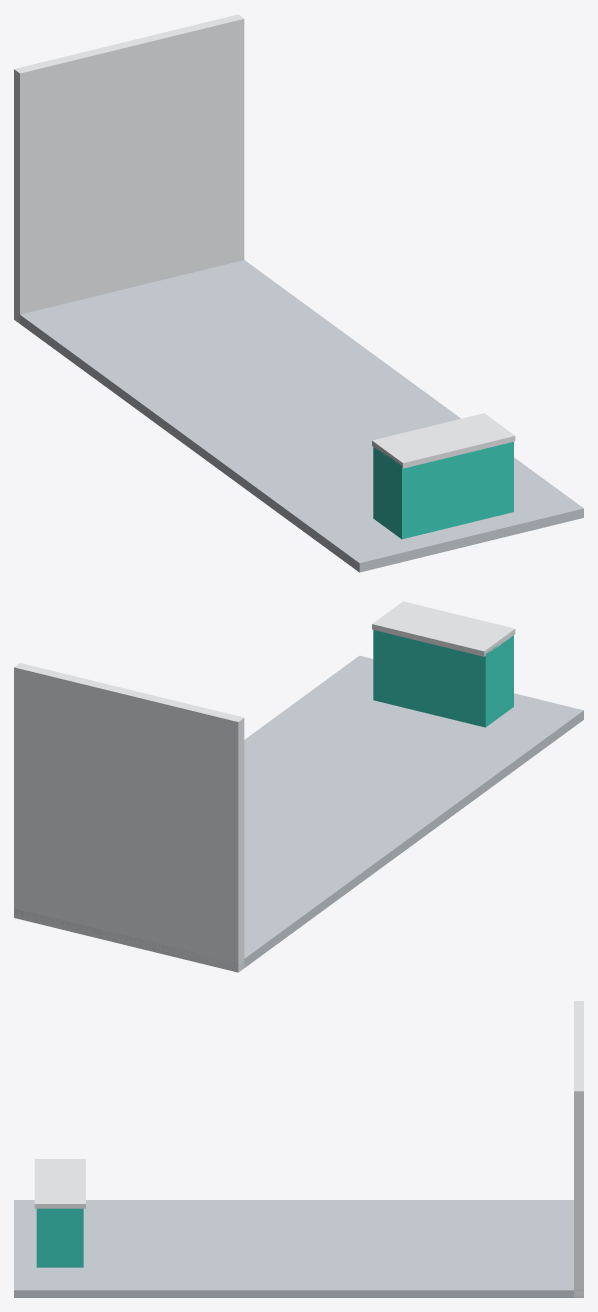
3 renders of one model, top to bottom at view 1: azimuth 30°, elevation 25°; view 2: azimuth 150°, elevation 25°; view 3: azimuth 270°, elevation 25°, orthographic. The views are drawn at different scales.
Visible parts, largest first — view 1: Exhibition Booth Concept; view 2: Exhibition Booth Concept; view 3: Exhibition Booth Concept.
Boxes of the visible parts, x1=… form: Exhibition Booth Concept: x1=14, y1=14, x2=583, y2=572; Exhibition Booth Concept: x1=14, y1=601, x2=583, y2=972; Exhibition Booth Concept: x1=14, y1=1001, x2=583, y2=1297.
Bounding box in the file's own units: 3 × 3.2 × 8.
